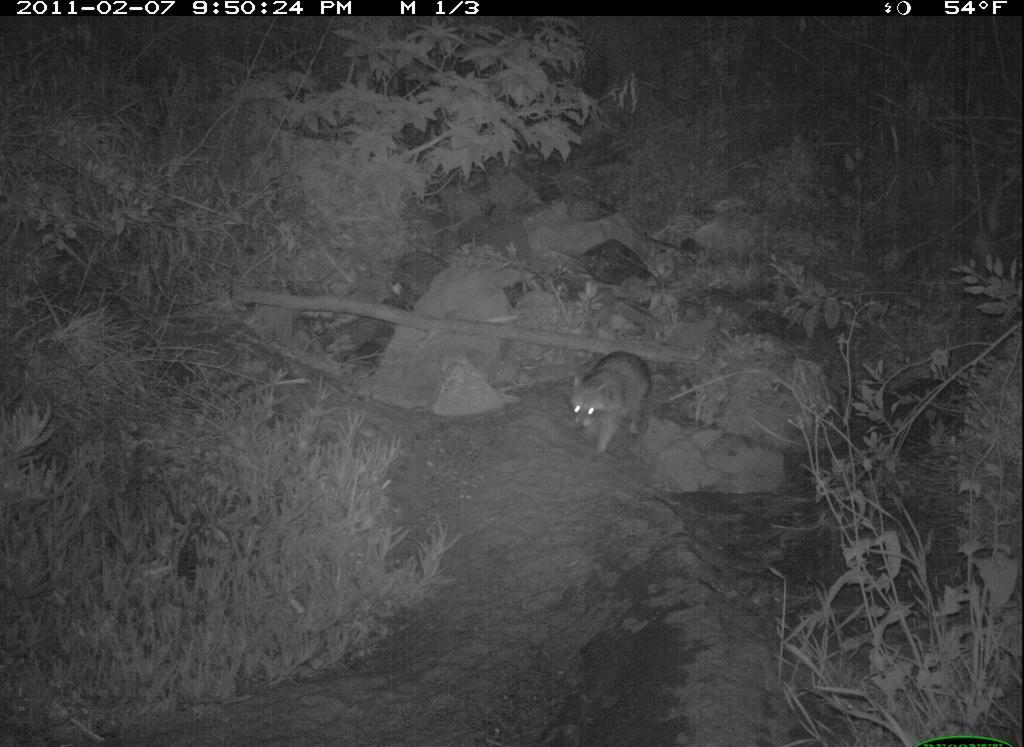raccoon: (559, 344, 658, 464)
